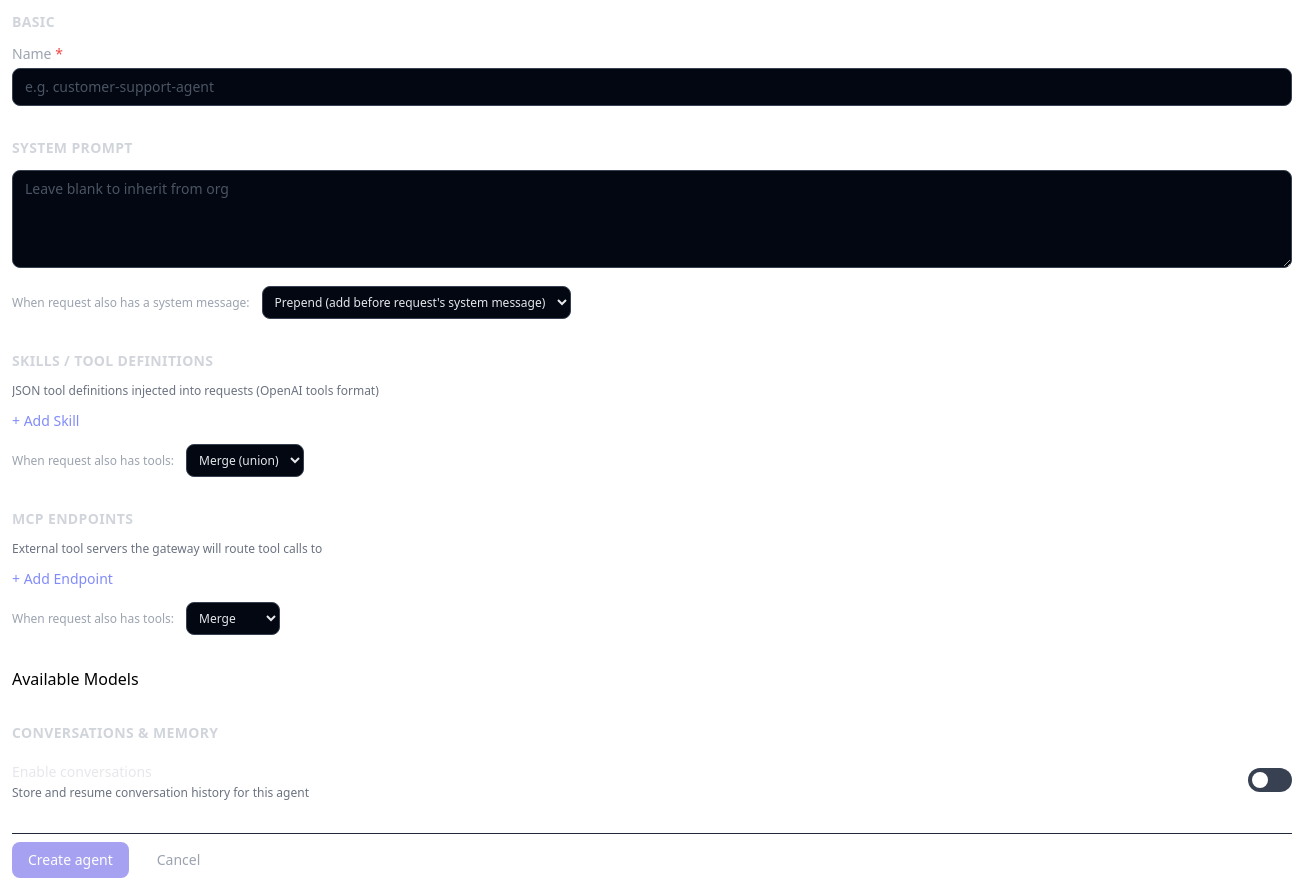
AgentEditor › add skill › shows add skill form when Add skill button is clicked
Click the button "+ Add Skill".
click(46, 421)  # box x1=12 y1=411 x2=80 y2=431
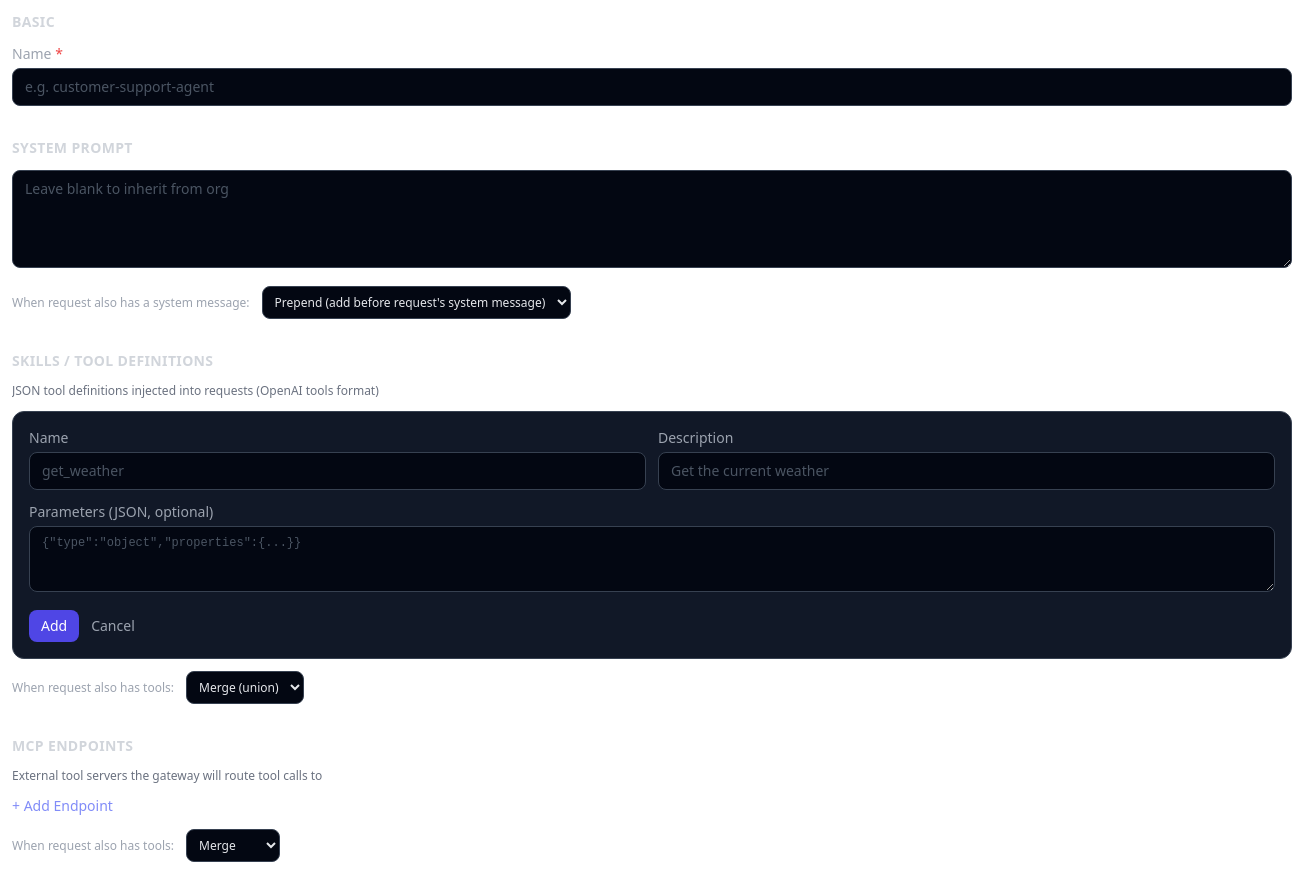
Expected: the field with placeholder "get_weather" is shown, x1=29 y1=452 x2=646 y2=490
